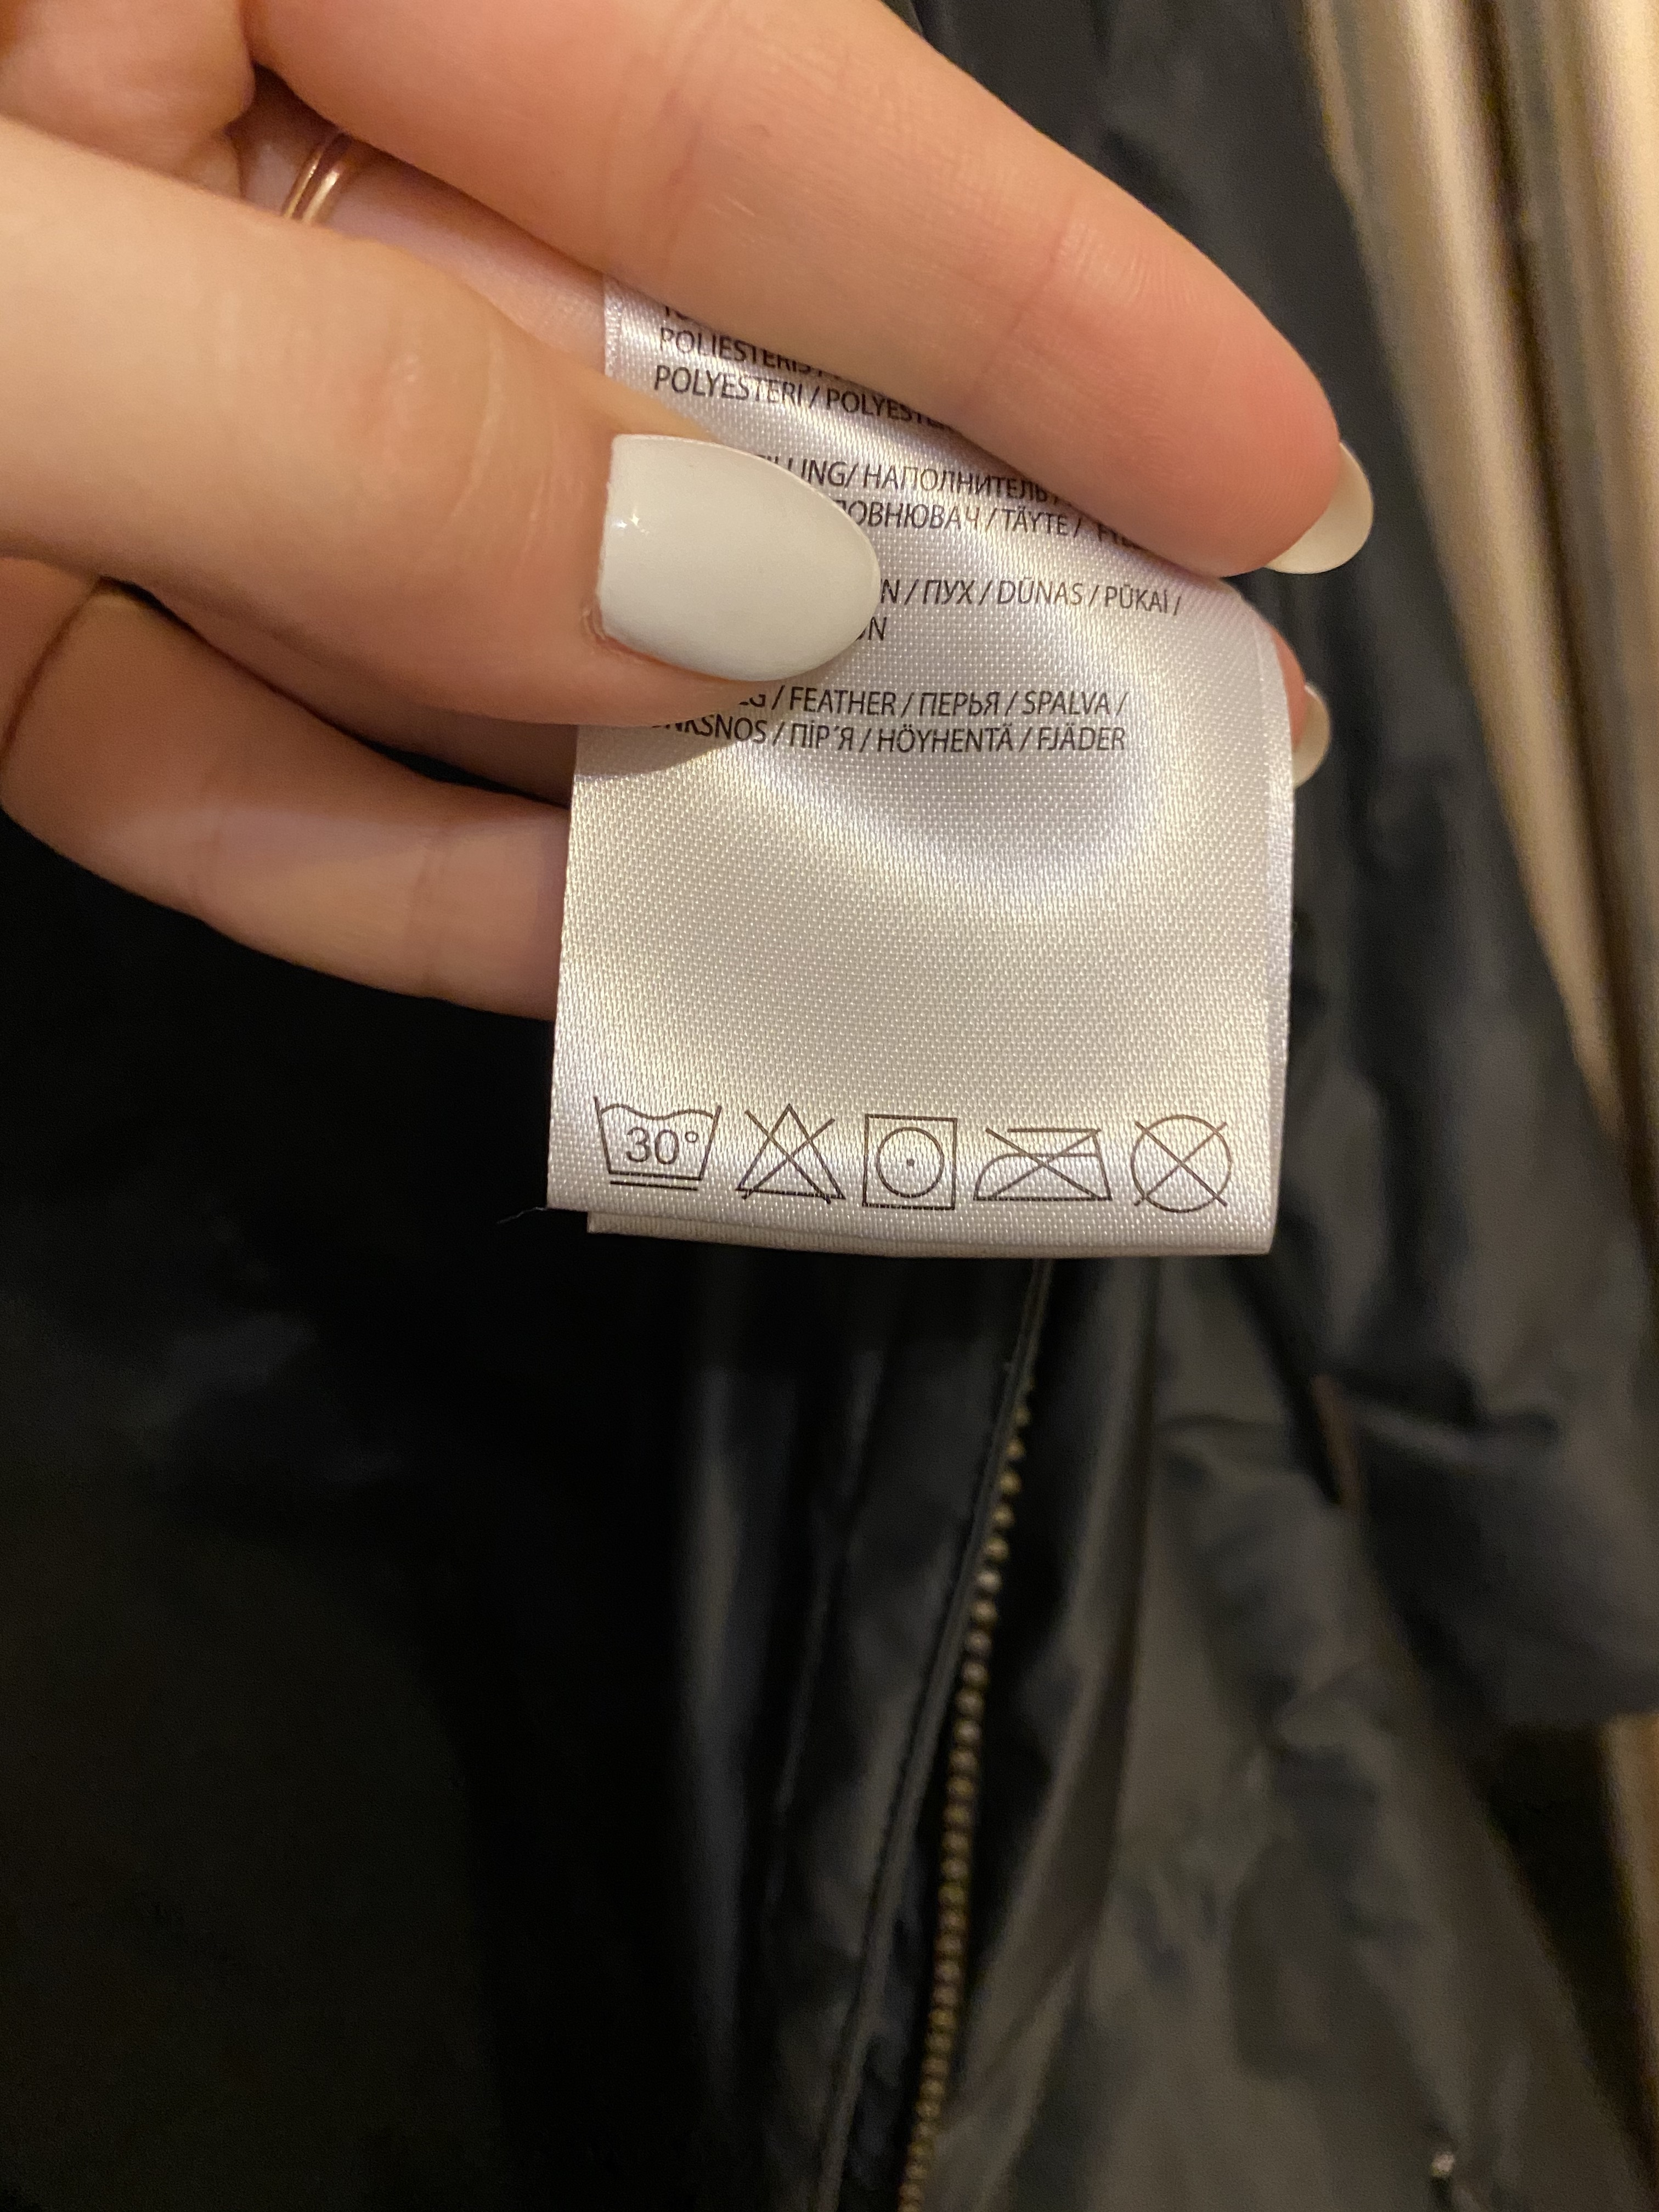do_not_bleach: (727, 1090, 849, 1209)
do_not_dry_clean: (1126, 1111, 1239, 1221)
do_not_iron: (971, 1118, 1115, 1211)
tumble_drying_low_temps: (857, 1109, 965, 1219)
wash_at_or_below_30_mild_fine_wash: (592, 1097, 725, 1195)
